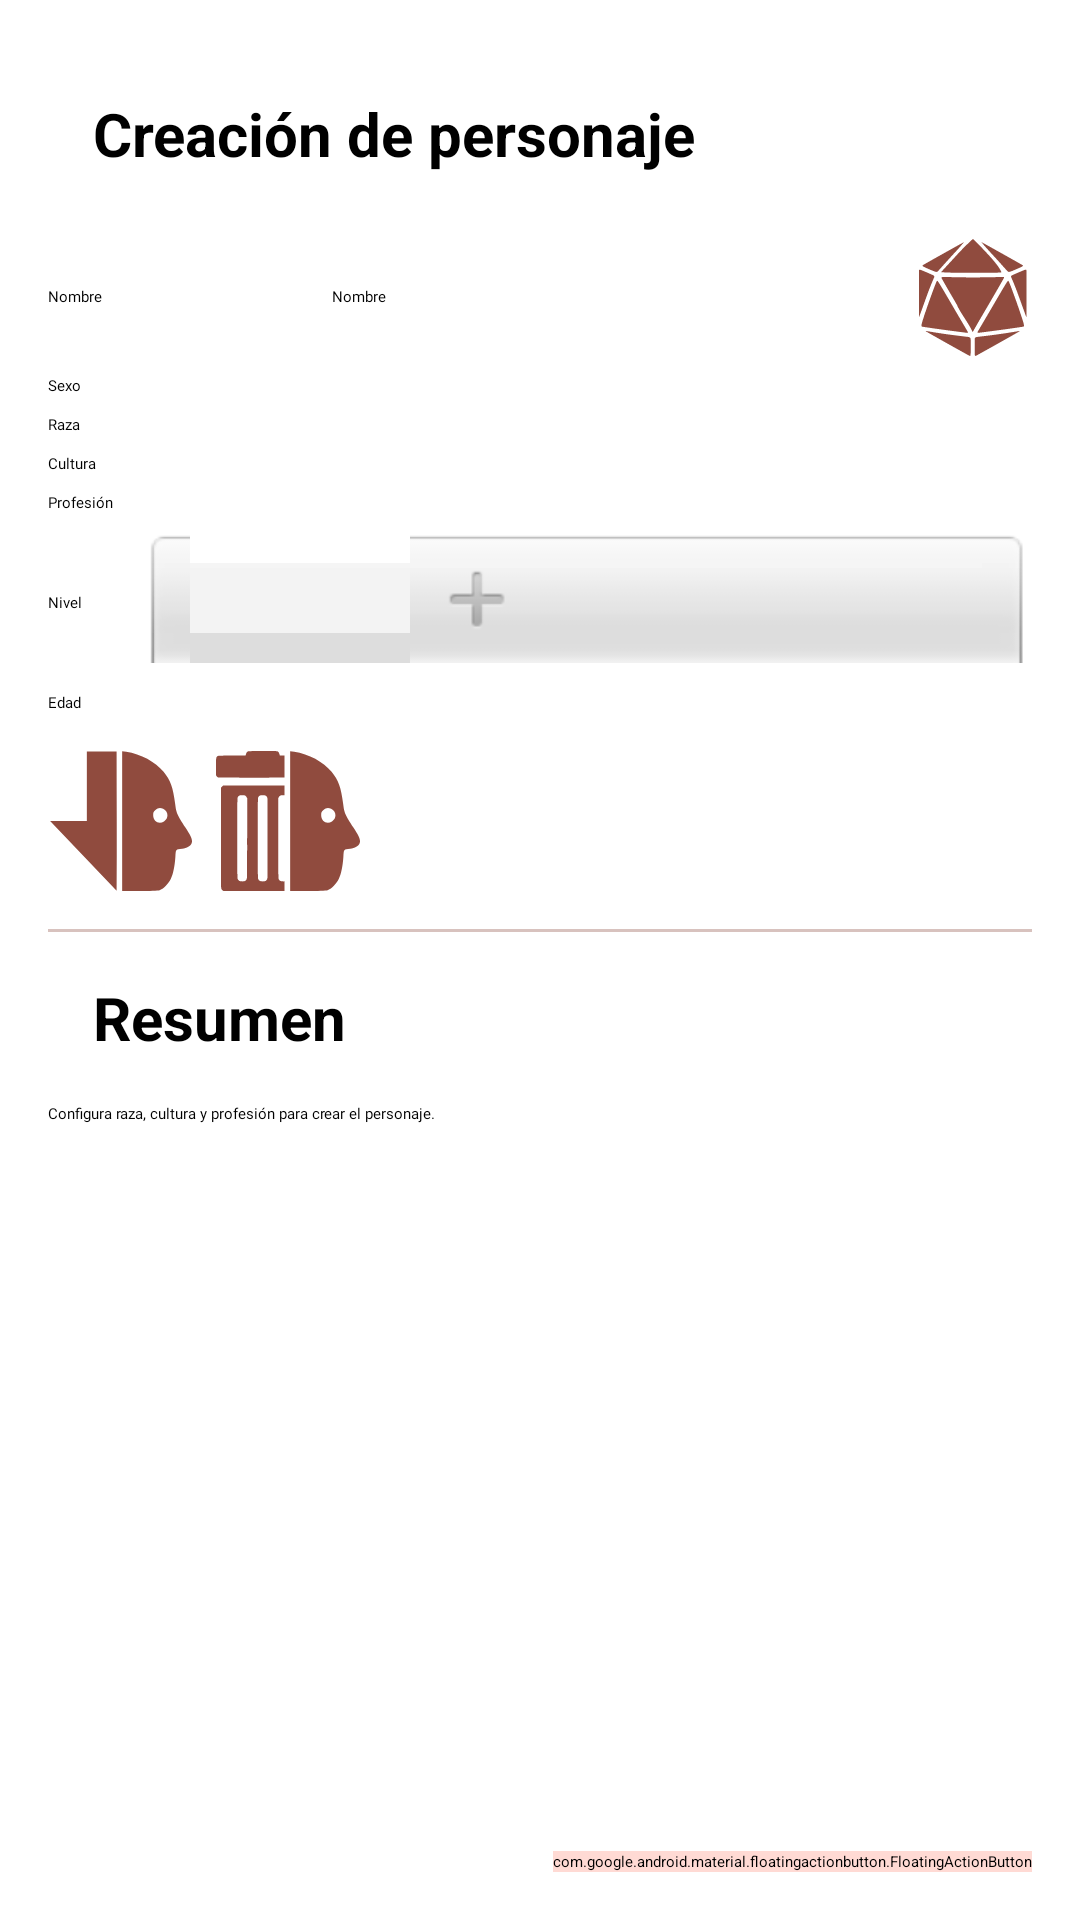

Screen size 1080x1920. Icon name, then its box in pixels as (x1, y1, x2, y2):
Generar personaje: (50, 751, 192, 891)
